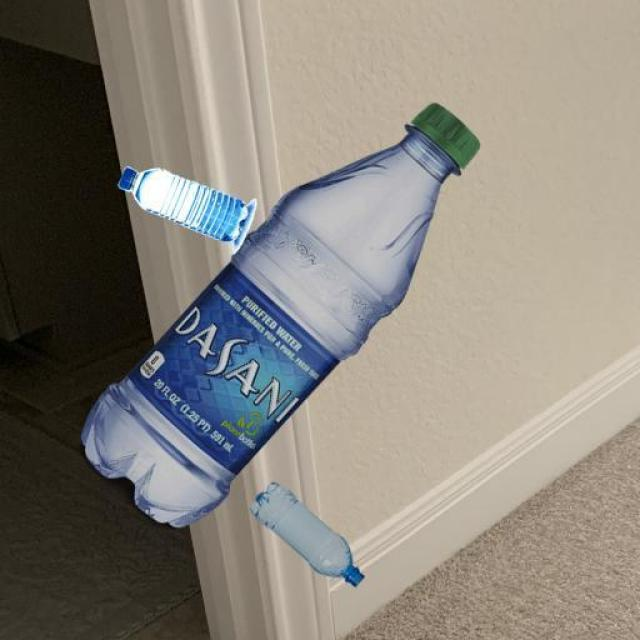bottle: (89, 164, 409, 524), (109, 160, 272, 252)
